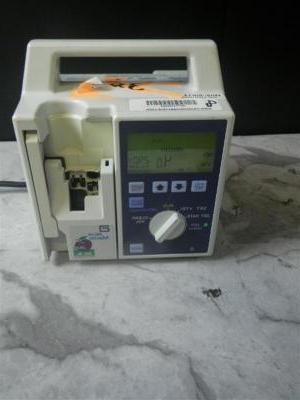plumxl1: (15, 37, 233, 264)
